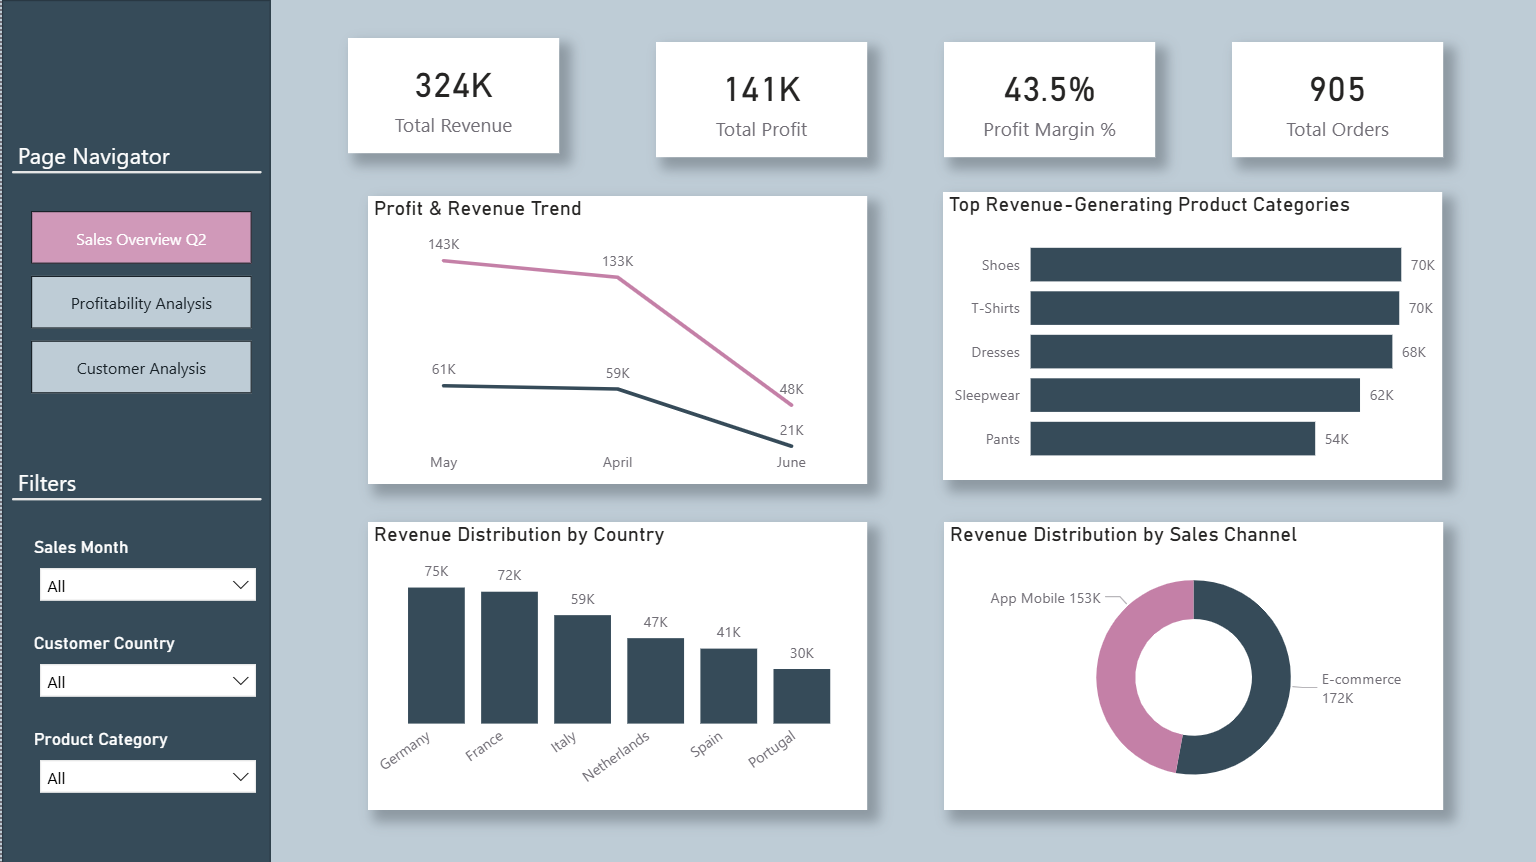

The dashboard page shown, as its layout file describes it:
{"tool":"powerbi","page":{"name":"Sales Overview Q2","canvas":[1280,720],"ordinal":0},"visuals":[{"type":"shape","box":[0,0,224,720],"z":0,"group":"g2"},{"type":"card","title":"Revenue Card","fields":{"Values":["sales.Total Revenue"]},"box":[288,32,176,96],"z":0},{"type":"card","title":"Profit Card","fields":{"Values":["sales.Total Profit"]},"box":[545.3,34.9,176,96],"z":1000},{"type":"card","title":"P Margin Card","fields":{"Values":["sales.Profit Margin %"]},"box":[785.3,34.9,176,96],"z":2000},{"type":"card","title":"Orders Card","fields":{"Values":["sales.Total Orders"]},"box":[1025.3,34.9,176,96],"z":3000},{"type":"lineChart","title":"Profit & Revenue Trend","fields":{"Category":["Calendar.Calendar Hierarchy.Year","Calendar.Calendar Hierarchy.Month"],"Y":["sales.Total Profit","sales.Total Revenue"]},"box":[305.3,162.9,416,240],"z":4000},{"type":"donutChart","title":"Revenue Distribution by Sales Channel","fields":{"Category":["channels.channel"],"Y":["sales.Total Revenue"]},"box":[785.3,434.9,416,240],"z":5000},{"type":"clusteredColumnChart","title":"Revenue Distribution by Country","fields":{"Category":["customers.country"],"Y":["sales.Total Revenue"]},"box":[305.3,434.9,416,240],"z":6000},{"type":"clusteredBarChart","title":"Top Revenue-Generating Product Categories","fields":{"Category":["products.category"],"Y":["sales.Total Revenue"]},"box":[784,160,416,240],"z":7000},{"type":"group","id":"g1","title":"Group 3","box":[12.1,437.9,200,224],"z":8000},{"type":"group","id":"g2","title":"Group 2","box":[0,0,224,720],"z":9000},{"type":"slicer","title":"Sales Month","fields":{"Values":["Calendar.Calendar Hierarchy.Month"]},"box":[12.1,437.9,200,64],"z":9000,"group":"g1"},{"type":"slicer","title":"Sales Month","fields":{"Values":["Calendar.Calendar Hierarchy.Month"]},"box":[22.1,447.9,200,64],"z":9000,"group":"g3"},{"type":"group","id":"g3","title":"Group 3","box":[22.1,447.9,200,224],"z":10000},{"type":"slicer","title":"Customer Country ","fields":{"Values":["customers.country"]},"box":[12.1,517.9,200,64],"z":10000,"group":"g1"},{"type":"slicer","title":"Customer Country ","fields":{"Values":["customers.country"]},"box":[22.1,527.9,200,64],"z":10000,"group":"g3"},{"type":"slicer","title":"Product Category","fields":{"Values":["products.category"]},"box":[12.1,597.9,200,64],"z":11000,"group":"g1"},{"type":"slicer","title":"Product Category","fields":{"Values":["products.category"]},"box":[22.1,607.9,200,64],"z":11000,"group":"g3"},{"type":"pageNavigator","box":[24,176,184,152],"z":12000,"group":"g2"},{"type":"textbox","box":[8,112,200,40],"z":13000,"group":"g5"},{"type":"textbox","box":[8,384,200,40],"z":13000,"group":"g4"},{"type":"group","id":"g4","title":"Group 1","box":[8,384,208,48],"z":13000,"group":"g2"},{"type":"group","id":"g5","title":"Group 1","box":[8,112,208,48],"z":14000,"group":"g2"},{"type":"shape","box":[8,128,208,32],"z":14000,"group":"g5"},{"type":"shape","box":[8,400,208,32],"z":14000,"group":"g4"}]}

Visuals, with their boxes in screenshot pixels (x1, y1, x2, y2), scaled from the page's 1280x720 canvas onto the 1536x862 screenshot:
shape: [0,0,269,861]
"Revenue Card" card: [346,38,557,153]
"Profit Card" card: [654,42,866,157]
"P Margin Card" card: [942,42,1154,157]
"Orders Card" card: [1230,42,1442,157]
"Profit & Revenue Trend" lineChart: [366,195,866,482]
"Revenue Distribution by Sales Channel" donutChart: [942,521,1442,808]
"Revenue Distribution by Country" clusteredColumnChart: [366,521,866,808]
"Top Revenue-Generating Product Categories" clusteredBarChart: [941,192,1440,479]
"Group 3" group: [15,524,255,792]
"Group 2" group: [0,0,269,861]
"Sales Month" slicer: [15,524,255,601]
"Sales Month" slicer: [27,536,267,613]
"Group 3" group: [27,536,267,804]
"Customer Country " slicer: [15,620,255,697]
"Customer Country " slicer: [27,632,267,709]
"Product Category" slicer: [15,716,255,792]
"Product Category" slicer: [27,728,267,804]
pageNavigator: [29,211,250,393]
textbox: [10,134,250,182]
textbox: [10,460,250,508]
"Group 1" group: [10,460,259,517]
"Group 1" group: [10,134,259,192]
shape: [10,153,259,192]
shape: [10,479,259,517]
